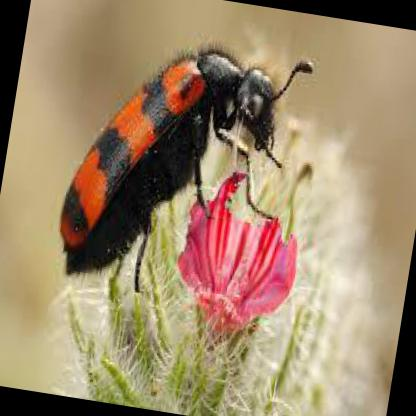blister beetle: (57, 49, 311, 294)
